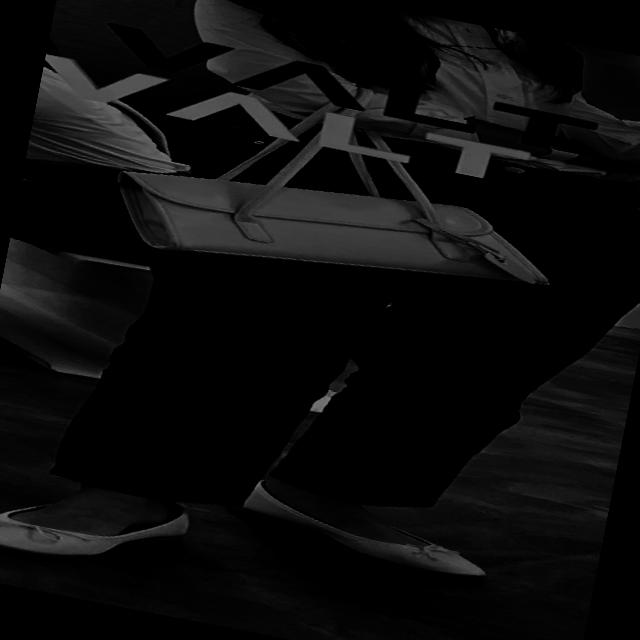denimpants: (35, 112, 640, 593)
shirt: (171, 0, 640, 193)
